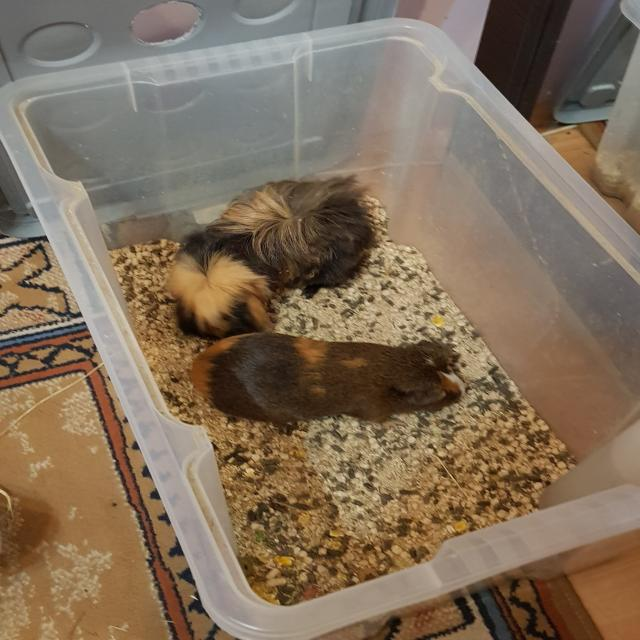guinea pig: (162, 174, 378, 332), (188, 332, 465, 435)
